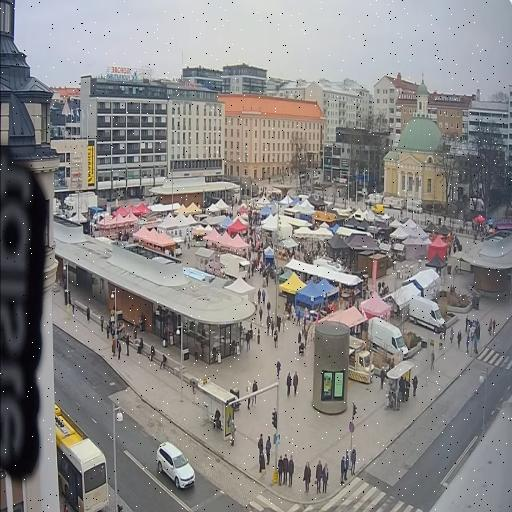Bus: (54, 403, 107, 511)
Car: (155, 442, 194, 489)
Delivery: (367, 317, 407, 359), (408, 297, 445, 333), (348, 336, 373, 383)
